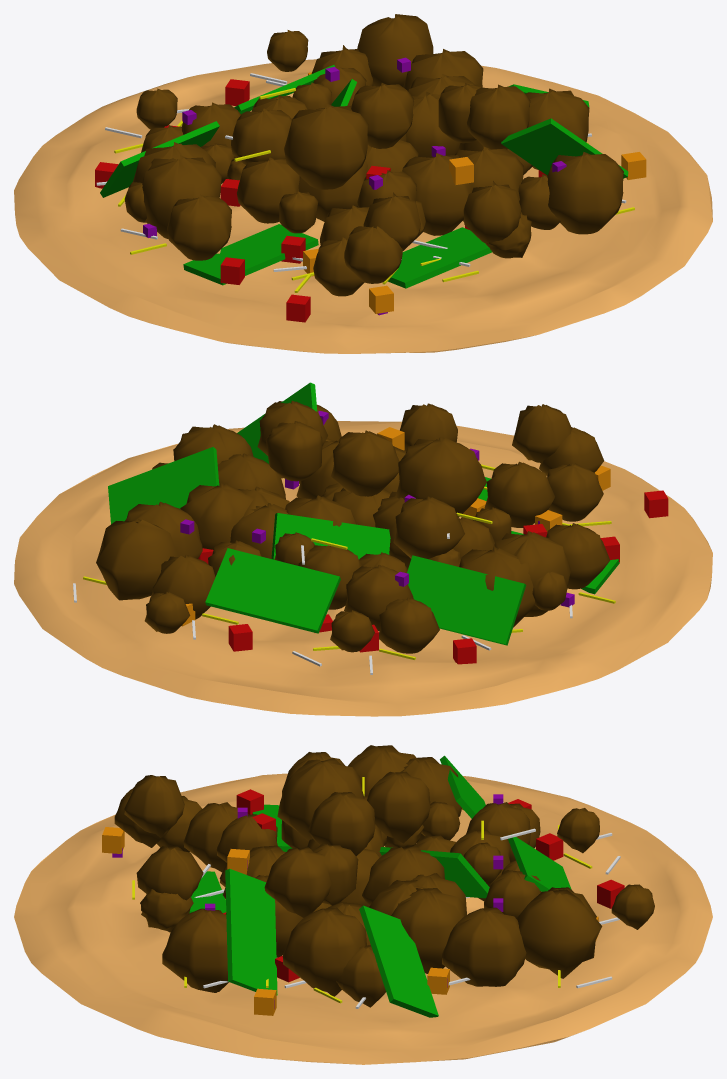
Rendered from TostadasFinal.fbx.
3 renders of one model, top to bottom at view 1: azimuth 30°, elevation 25°; view 2: azimuth 150°, elevation 25°; view 3: azimuth 270°, elevation 25°, orthographic.
Parts seen in each view (by area): view 1: polySurface10; view 2: polySurface10; view 3: polySurface10.
Part boxes in pixels (x1,y1,x2,y2): polySurface10: (14, 14, 712, 353); polySurface10: (14, 382, 712, 716); polySurface10: (14, 745, 712, 1064).
Bounding box in the file's own units: 1.58 × 0.3597 × 1.58.
